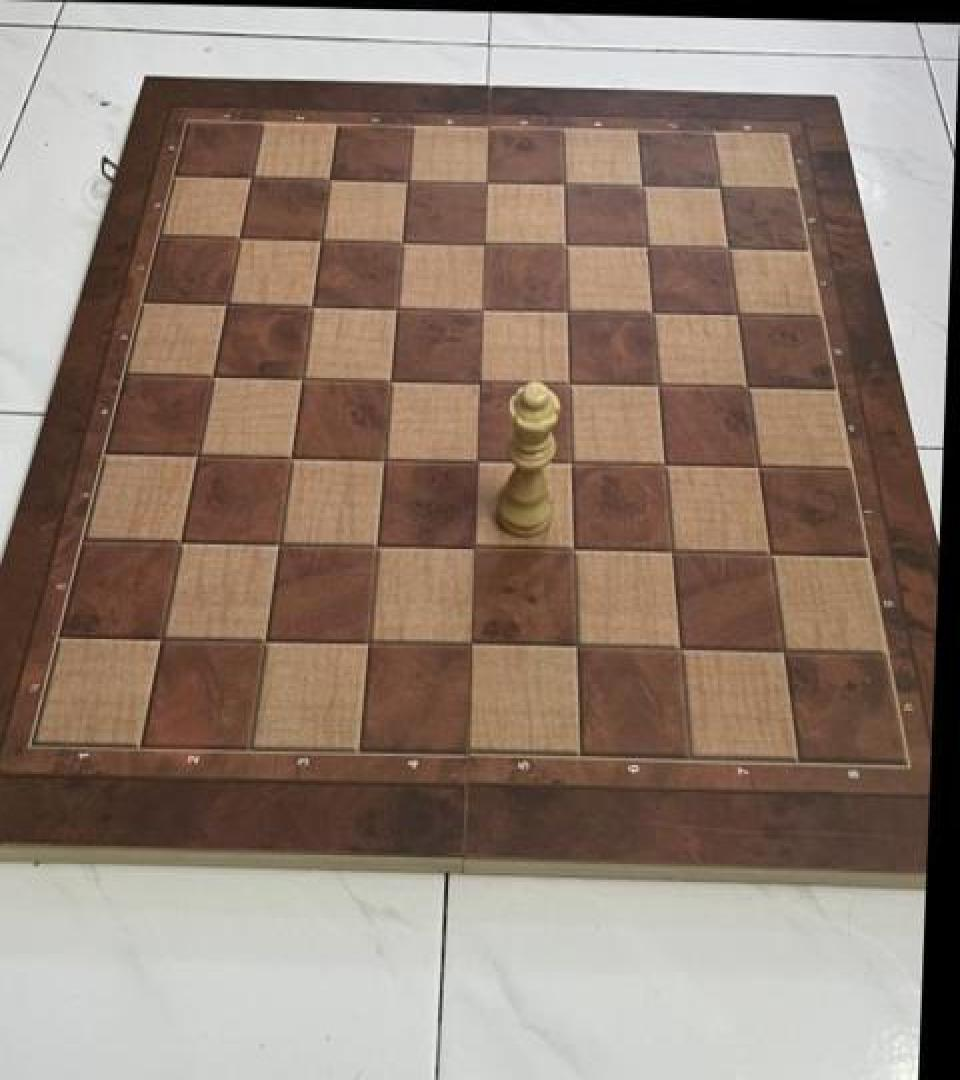xcorner: (699, 165, 735, 206), (621, 164, 657, 205), (543, 163, 579, 204), (708, 226, 744, 267), (301, 219, 337, 260), (221, 218, 257, 259), (632, 291, 668, 332), (547, 289, 583, 330), (639, 363, 675, 404), (549, 362, 585, 403), (646, 443, 682, 484), (179, 434, 215, 475), (753, 533, 789, 574), (358, 525, 394, 566), (260, 523, 296, 564), (767, 631, 803, 672), (454, 624, 490, 665), (351, 622, 387, 663), (465, 162, 501, 202), (387, 161, 423, 201), (309, 160, 345, 200), (232, 159, 268, 199), (626, 225, 662, 265), (545, 224, 581, 264), (463, 223, 499, 263), (382, 222, 418, 262), (718, 293, 754, 333), (462, 288, 498, 328), (377, 287, 413, 327), (293, 286, 329, 326), (208, 284, 244, 324), (728, 366, 764, 406), (460, 360, 496, 400), (371, 359, 407, 399), (283, 358, 319, 398), (194, 356, 230, 396), (740, 446, 776, 486), (552, 441, 588, 481), (458, 440, 494, 480), (365, 438, 401, 478), (272, 437, 308, 477), (654, 531, 690, 571), (555, 530, 591, 570), (456, 528, 492, 568), (163, 521, 199, 561), (662, 629, 698, 669), (558, 627, 594, 667), (247, 620, 283, 660), (144, 618, 180, 658)
